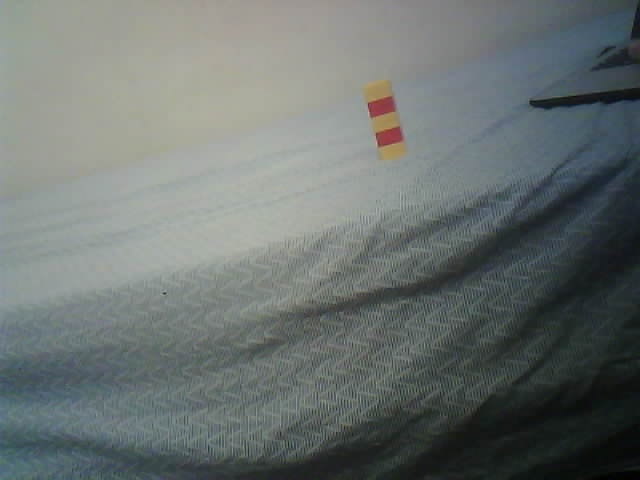lego: (359, 78, 407, 161)
